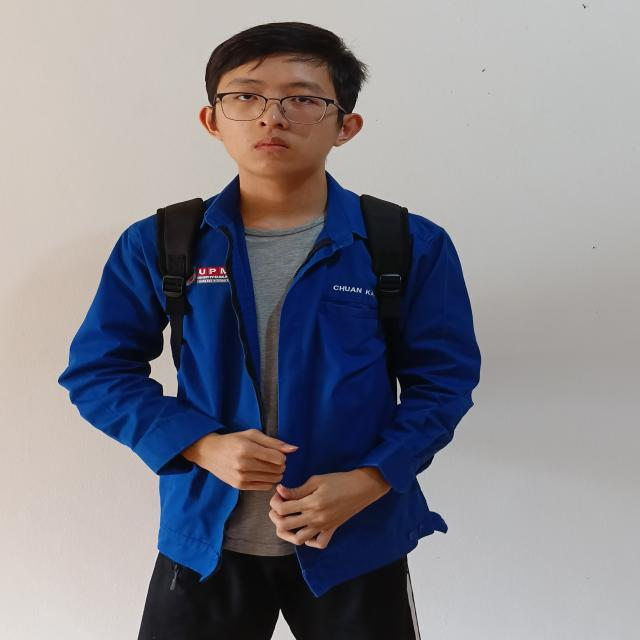person_with_labcoat: (60, 23, 480, 640)
